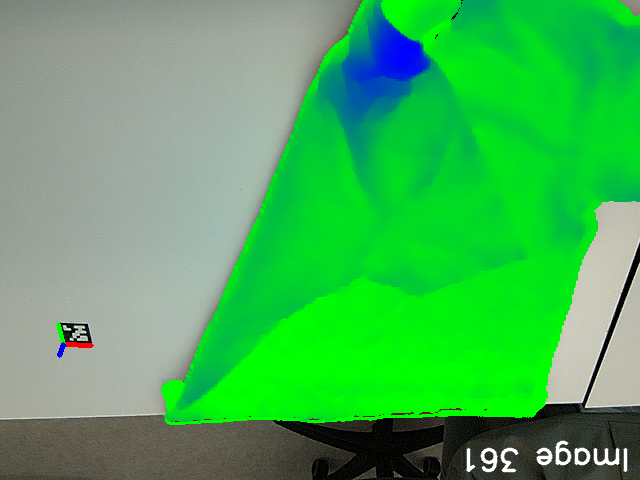V: (398, 259, 448, 307), (492, 226, 543, 269)
